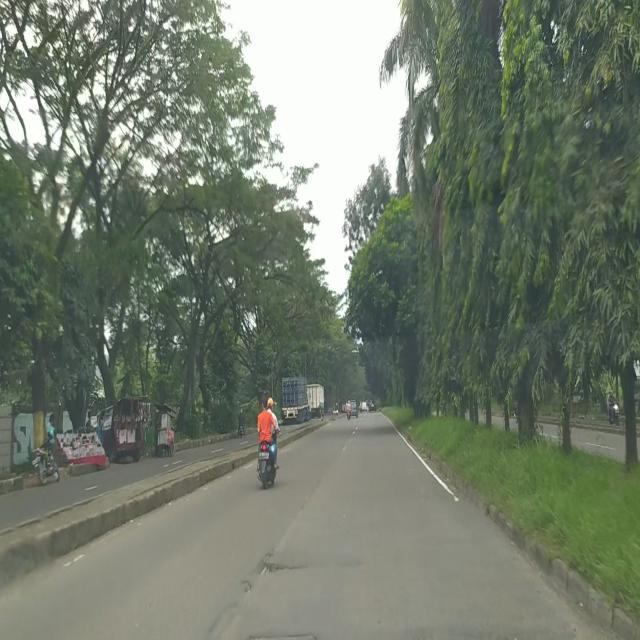Sewer Cover: (256, 559, 310, 586)
